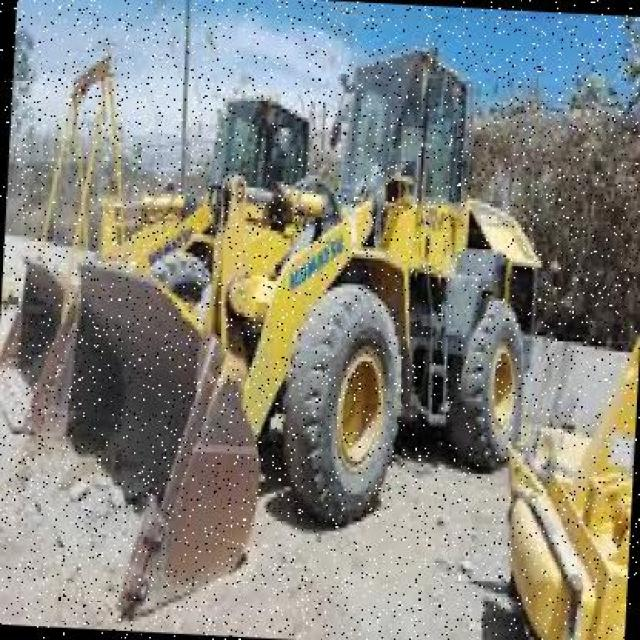buldozerpayloadergrader: (5, 23, 548, 640)
